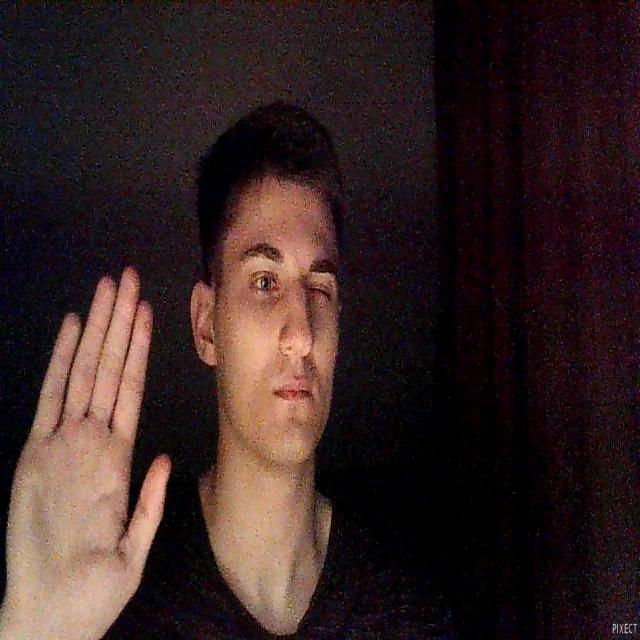Eyeclosed: (309, 279, 331, 305)
Eyeopen: (250, 270, 277, 294)
